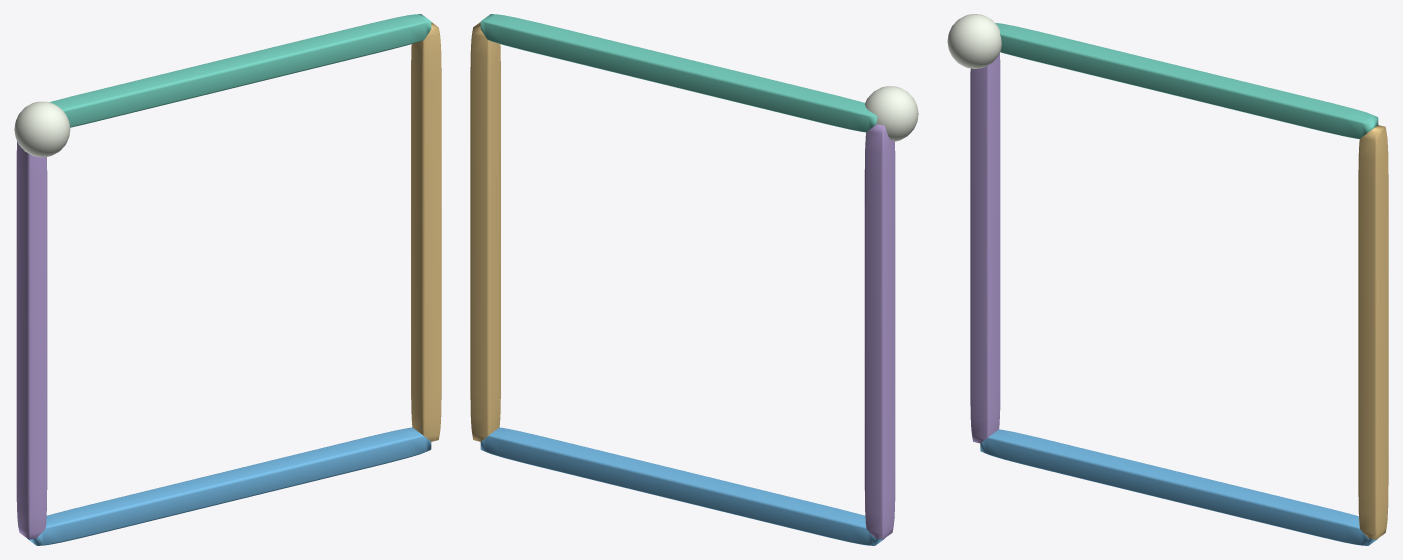
The picture shows the model from 3 angles, left to right: view 1: azimuth 30°, elevation 25°; view 2: azimuth 150°, elevation 25°; view 3: azimuth 330°, elevation 25°; orthographic projection.
Visible parts, largest first — view 1: rail_1, rail_2, rail_3, rail_0, marker; view 2: rail_3, rail_1, rail_0, rail_2, marker; view 3: rail_1, rail_2, rail_0, rail_3, marker.
Boxes of the visible parts, x1,y1,x2,y2 form: rail_1: (411, 22, 441, 441); rail_2: (27, 427, 431, 545); rail_3: (16, 141, 47, 539); rail_0: (50, 14, 431, 127); marker: (14, 101, 70, 157); rail_3: (864, 124, 895, 539); rail_1: (470, 22, 500, 441); rail_0: (480, 14, 877, 132); rail_2: (480, 427, 884, 545); marker: (865, 86, 918, 141); rail_1: (1358, 125, 1388, 539); rail_2: (980, 429, 1378, 545); rail_0: (995, 23, 1378, 138); rail_3: (970, 53, 1000, 443); marker: (947, 14, 1001, 68).
Size of the model in its own units: 2.82 by 2.82 by 0.355.
